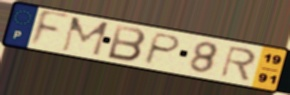8: (188, 41, 221, 75)
B: (105, 23, 148, 64)
F: (27, 8, 72, 49)
M: (59, 16, 112, 58)
P: (141, 31, 183, 66)
R: (218, 45, 258, 83)
